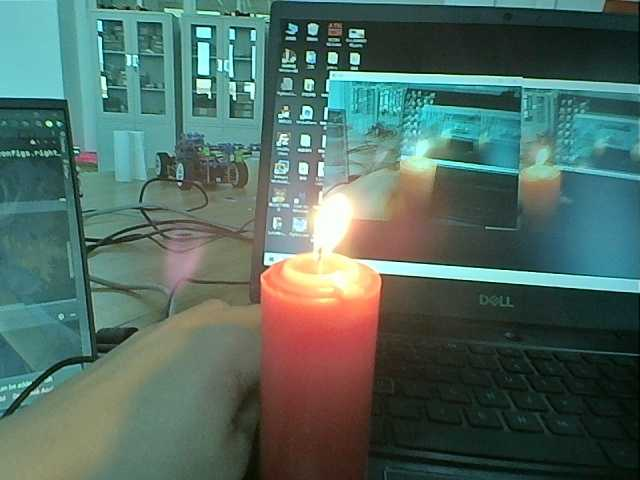candle: (250, 257, 387, 480), (396, 162, 434, 221), (522, 179, 564, 226)
fire: (303, 190, 352, 261), (527, 138, 555, 172), (407, 138, 435, 162)
